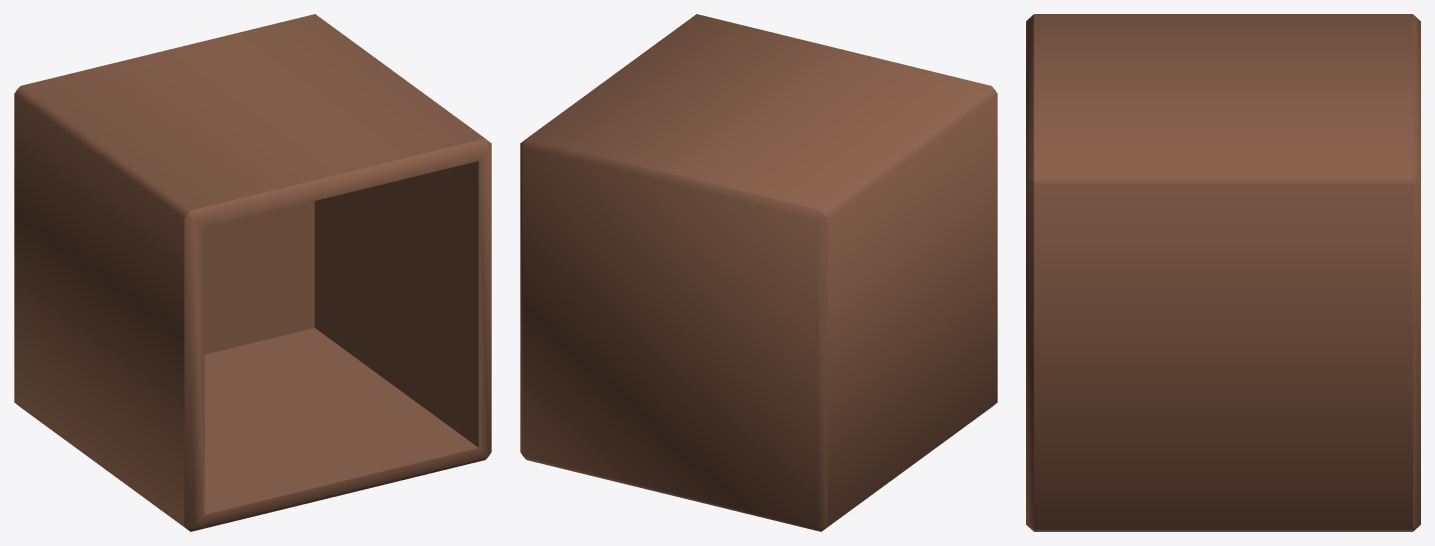
Rendered from Caixa_Carta.fbx.
The picture shows the model from 3 angles, left to right: view 1: azimuth 30°, elevation 25°; view 2: azimuth 150°, elevation 25°; view 3: azimuth 270°, elevation 25°; orthographic projection. The views are drawn at different scales.
Parts seen in each view (by area): view 1: Caixa_Carta; view 2: Caixa_Carta; view 3: Caixa_Carta.
Part boxes in pixels (x1=…): Caixa_Carta: x1=14, y1=14, x2=491, y2=531; Caixa_Carta: x1=520, y1=14, x2=997, y2=531; Caixa_Carta: x1=1026, y1=14, x2=1420, y2=531.
Bounding box in the file's own units: 161 × 161 × 161.
